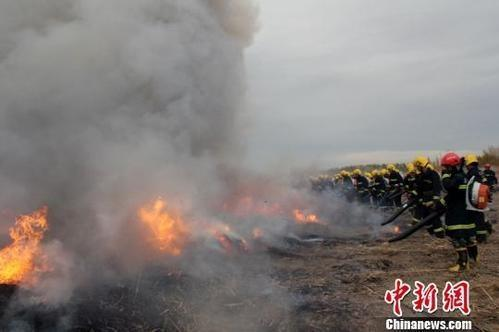fire: (138, 169, 327, 257), (2, 198, 64, 288)
